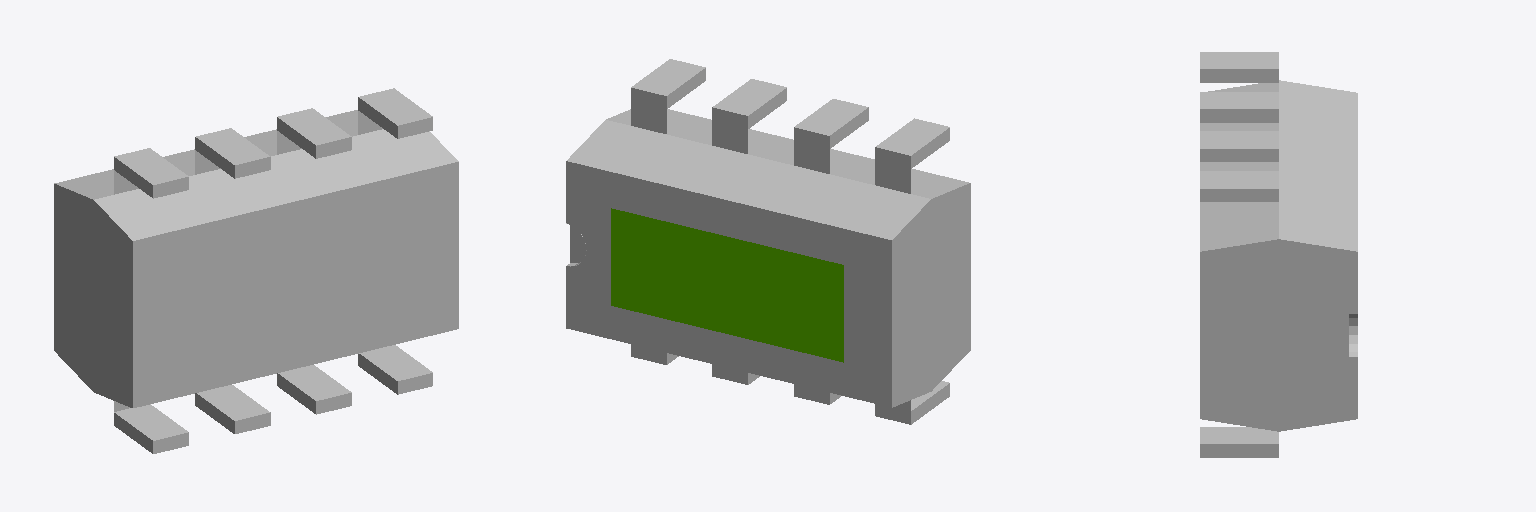
Rendered from DIL08.obj.
3 views of the same model, side by side, from view 1: azimuth 30°, elevation 25°; view 2: azimuth 150°, elevation 25°; view 3: azimuth 270°, elevation 25° (orthographic).
Parts seen in each view (by area): view 1: ShapeIndexedFaceSet.019_ShapeIndexedFaceSet, ShapeIndexedFaceSet.011_ShapeIndexedFaceSet.012, ShapeIndexedFaceSet.013_ShapeIndexedFaceSet.014, ShapeIndexedFaceSet.016_ShapeIndexedFaceSet.017, ShapeIndexedFaceSet.009_ShapeIndexedFaceSet.010, ShapeIndexedFaceSet.008_ShapeIndexedFaceSet.009, ShapeIndexedFaceSet.006_ShapeIndexedFaceSet.007, ShapeIndexedFaceSet.004_ShapeIndexedFaceSet.005, ShapeIndexedFaceSet.001_ShapeIndexedFaceSet.002; view 2: ShapeIndexedFaceSet.019_ShapeIndexedFaceSet, ShapeIndexedFaceSet_ShapeIndexedFaceSet.001, ShapeIndexedFaceSet.013_ShapeIndexedFaceSet.014, ShapeIndexedFaceSet.009_ShapeIndexedFaceSet.010, ShapeIndexedFaceSet.016_ShapeIndexedFaceSet.017, ShapeIndexedFaceSet.011_ShapeIndexedFaceSet.012, ShapeIndexedFaceSet.008_ShapeIndexedFaceSet.009, ShapeIndexedFaceSet.014_ShapeIndexedFaceSet.015, ShapeIndexedFaceSet.012_ShapeIndexedFaceSet.013, ShapeIndexedFaceSet.015_ShapeIndexedFaceSet.016, ShapeIndexedFaceSet.010_ShapeIndexedFaceSet.011, ShapeIndexedFaceSet.004_ShapeIndexedFaceSet.005; view 3: ShapeIndexedFaceSet.019_ShapeIndexedFaceSet, ShapeIndexedFaceSet.016_ShapeIndexedFaceSet.017, ShapeIndexedFaceSet.013_ShapeIndexedFaceSet.014, ShapeIndexedFaceSet.011_ShapeIndexedFaceSet.012, ShapeIndexedFaceSet.009_ShapeIndexedFaceSet.010, ShapeIndexedFaceSet.001_ShapeIndexedFaceSet.002.
Part boxes in pixels (bbox=[...]): ShapeIndexedFaceSet.019_ShapeIndexedFaceSet: bbox=[54, 110, 458, 407]; ShapeIndexedFaceSet.011_ShapeIndexedFaceSet.012: bbox=[195, 128, 270, 178]; ShapeIndexedFaceSet.013_ShapeIndexedFaceSet.014: bbox=[277, 108, 351, 158]; ShapeIndexedFaceSet.016_ShapeIndexedFaceSet.017: bbox=[358, 88, 432, 138]; ShapeIndexedFaceSet.009_ShapeIndexedFaceSet.010: bbox=[114, 148, 188, 198]; ShapeIndexedFaceSet.008_ShapeIndexedFaceSet.009: bbox=[114, 404, 188, 453]; ShapeIndexedFaceSet.006_ShapeIndexedFaceSet.007: bbox=[195, 385, 270, 433]; ShapeIndexedFaceSet.004_ShapeIndexedFaceSet.005: bbox=[277, 365, 351, 414]; ShapeIndexedFaceSet.001_ShapeIndexedFaceSet.002: bbox=[358, 345, 432, 394]; ShapeIndexedFaceSet.019_ShapeIndexedFaceSet: bbox=[566, 109, 970, 407]; ShapeIndexedFaceSet_ShapeIndexedFaceSet.001: bbox=[611, 208, 843, 362]; ShapeIndexedFaceSet.013_ShapeIndexedFaceSet.014: bbox=[712, 79, 786, 128]; ShapeIndexedFaceSet.009_ShapeIndexedFaceSet.010: bbox=[875, 118, 949, 168]; ShapeIndexedFaceSet.016_ShapeIndexedFaceSet.017: bbox=[631, 59, 705, 109]; ShapeIndexedFaceSet.011_ShapeIndexedFaceSet.012: bbox=[794, 99, 868, 148]; ShapeIndexedFaceSet.008_ShapeIndexedFaceSet.009: bbox=[875, 381, 949, 424]; ShapeIndexedFaceSet.014_ShapeIndexedFaceSet.015: bbox=[712, 121, 747, 153]; ShapeIndexedFaceSet.012_ShapeIndexedFaceSet.013: bbox=[794, 141, 829, 173]; ShapeIndexedFaceSet.015_ShapeIndexedFaceSet.016: bbox=[631, 101, 666, 133]; ShapeIndexedFaceSet.010_ShapeIndexedFaceSet.011: bbox=[875, 161, 910, 193]; ShapeIndexedFaceSet.004_ShapeIndexedFaceSet.005: bbox=[712, 364, 759, 384]; ShapeIndexedFaceSet.019_ShapeIndexedFaceSet: bbox=[1200, 80, 1357, 431]; ShapeIndexedFaceSet.016_ShapeIndexedFaceSet.017: bbox=[1200, 171, 1278, 201]; ShapeIndexedFaceSet.013_ShapeIndexedFaceSet.014: bbox=[1200, 131, 1278, 161]; ShapeIndexedFaceSet.011_ShapeIndexedFaceSet.012: bbox=[1200, 92, 1278, 122]; ShapeIndexedFaceSet.009_ShapeIndexedFaceSet.010: bbox=[1200, 52, 1278, 82]; ShapeIndexedFaceSet.001_ShapeIndexedFaceSet.002: bbox=[1200, 427, 1278, 457].
Size of the model in its own units: 10.16 by 8.02 by 4.3.